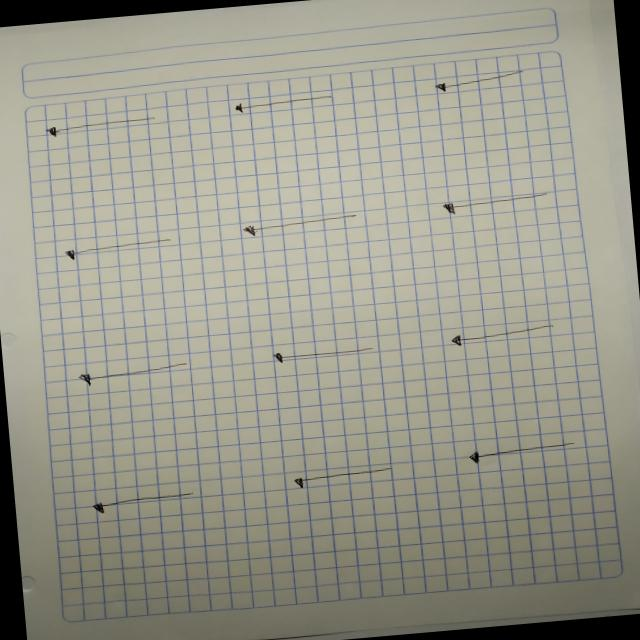arrow_line_left: (61, 348, 204, 398), (32, 102, 176, 146), (80, 480, 206, 530), (46, 229, 186, 271), (429, 316, 566, 356), (280, 455, 410, 496), (259, 336, 388, 375), (224, 209, 362, 245), (416, 186, 554, 222), (457, 436, 580, 470), (423, 64, 533, 100), (225, 88, 348, 120)
